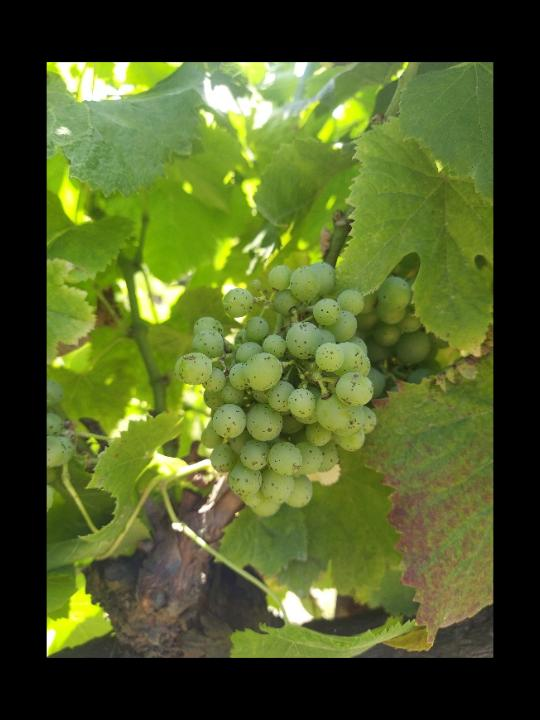grape: (173, 261, 379, 518)
